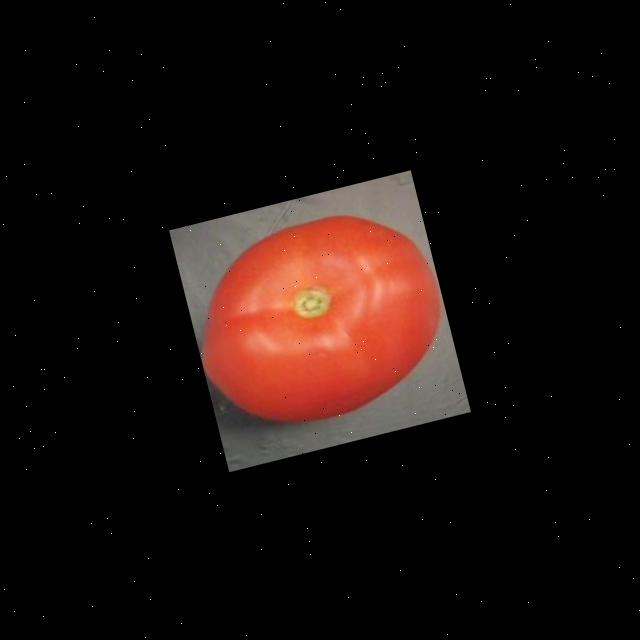tomato: (174, 190, 466, 448)
